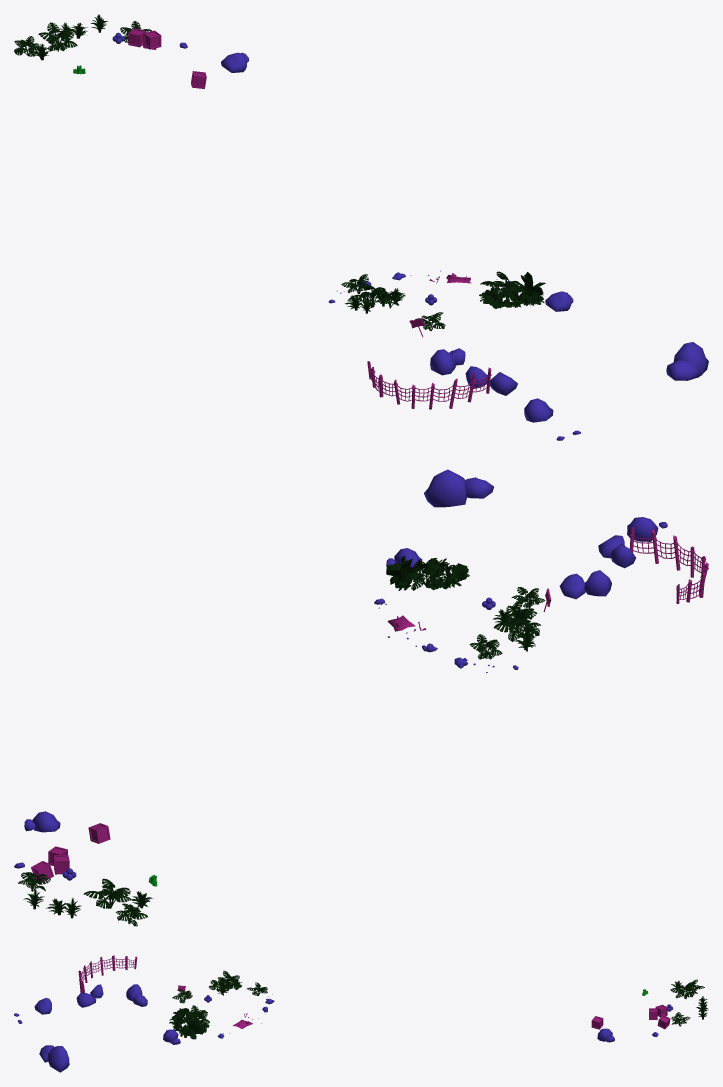
The picture shows the model from 3 angles, top to bottom: view 1: azimuth 30°, elevation 25°; view 2: azimuth 150°, elevation 25°; view 3: azimuth 270°, elevation 25°; orthographic projection. The views are drawn at different scales.
Parts seen in each view (by area): view 1: our_stones, en_plants, our_plants001, our_fence, our_plants002, en_box001; view 2: our_stones, en_plants, our_plants002, our_plants001, our_fence, en_box001; view 3: our_stones, our_plants001, our_plants002, en_plants, our_fence, en_box001, en_stones.
Boxes of the visible parts, x1=… form: our_stones: x1=328, y1=272, x2=708, y2=440; en_plants: x1=14, y1=14, x2=151, y2=60; our_plants001: x1=479, y1=271, x2=545, y2=308; our_fence: x1=367, y1=361, x2=491, y2=409; our_plants002: x1=341, y1=274, x2=445, y2=331; en_box001: x1=128, y1=28, x2=206, y2=88; our_stones: x1=374, y1=469, x2=667, y2=669; en_plants: x1=18, y1=872, x2=153, y2=926; our_plants002: x1=469, y1=587, x2=545, y2=659; our_plants001: x1=386, y1=556, x2=469, y2=590; our_fence: x1=629, y1=526, x2=708, y2=603; en_box001: x1=31, y1=823, x2=110, y2=882; our_stones: x1=14, y1=984, x2=274, y2=1072; our_plants001: x1=169, y1=1005, x2=209, y2=1039; our_plants002: x1=172, y1=970, x2=267, y2=1003; en_plants: x1=670, y1=979, x2=708, y2=1026; our_fence: x1=78, y1=955, x2=137, y2=992; en_box001: x1=591, y1=1004, x2=670, y2=1029; en_stones: x1=597, y1=1028, x2=658, y2=1042.
Size of the model in its own units: 15520 by 2726 by 47865.
